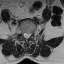CCS_normal: (26, 29, 28, 41)
LFS_normal: (30, 29, 33, 37)
LLS_normal: (28, 30, 30, 39)
RFS_normal: (21, 29, 23, 37)
RLS_normal: (23, 30, 26, 40)
